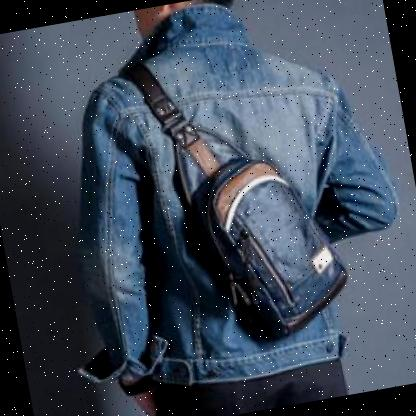bag: (165, 124, 366, 361)
person: (25, 0, 416, 416)
